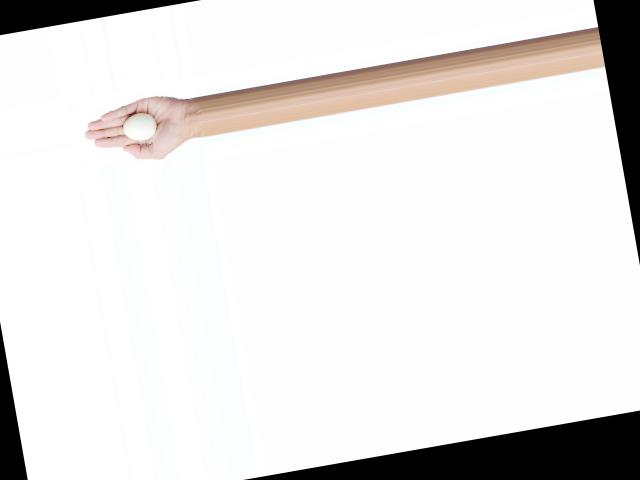egg: (119, 111, 157, 142)
